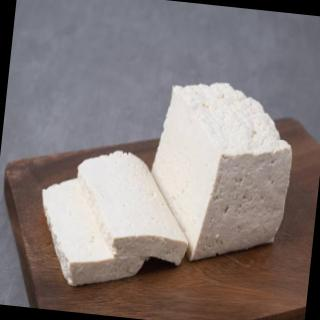Tahu: (139, 76, 307, 279), (26, 141, 201, 296)
